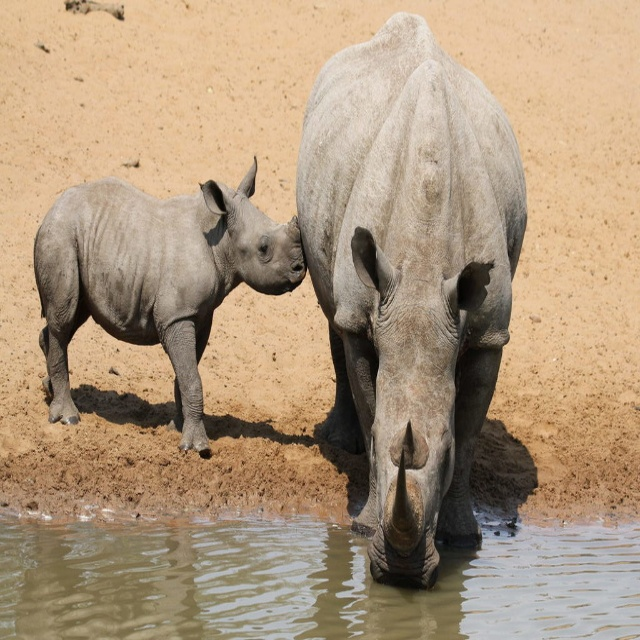Rhinoceros: (293, 5, 529, 589), (24, 156, 304, 452)
